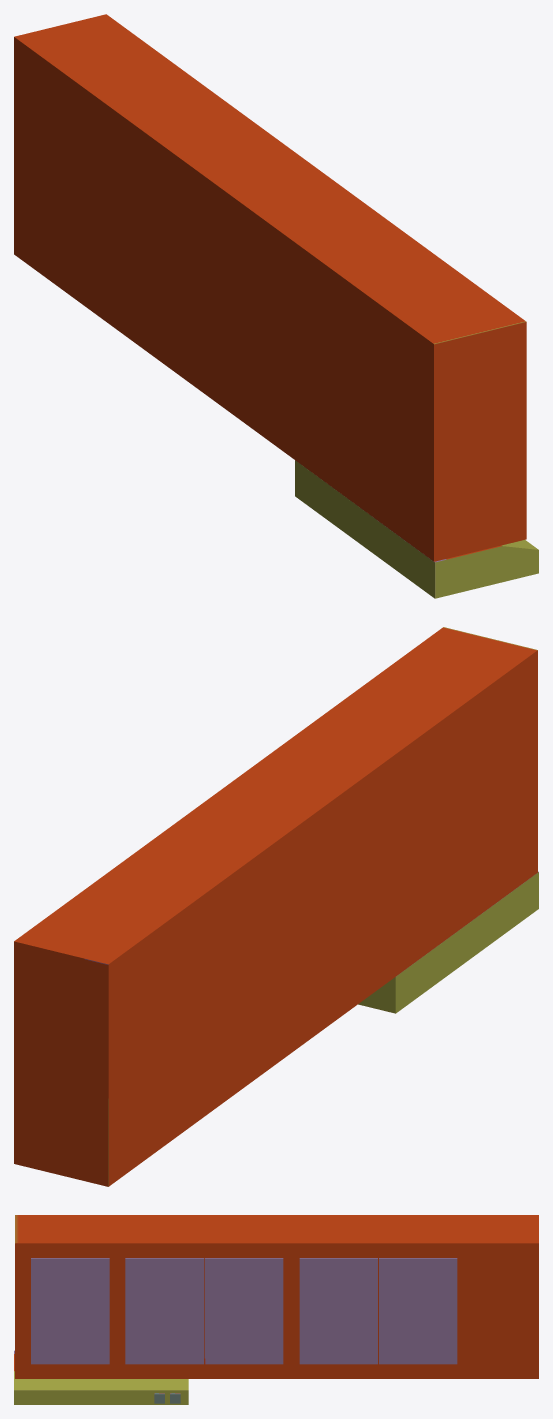
The model's file is cenArribaDer.obj.
The picture shows the model from 3 angles, top to bottom: view 1: azimuth 30°, elevation 25°; view 2: azimuth 150°, elevation 25°; view 3: azimuth 270°, elevation 25°; orthographic projection. The views are drawn at different scales.
Parts seen in each view (by area): view 1: Cube.088_Cube.092; view 2: Cube.088_Cube.092; view 3: Cube.088_Cube.092.
Part boxes in pixels (x1,y1,x2,y2): Cube.088_Cube.092: (14, 14, 538, 598); Cube.088_Cube.092: (14, 627, 538, 1186); Cube.088_Cube.092: (14, 1215, 538, 1404).
Bounding box in the file's own units: 4.4 × 9.87 × 29.66.
1 material, 1 textured.
